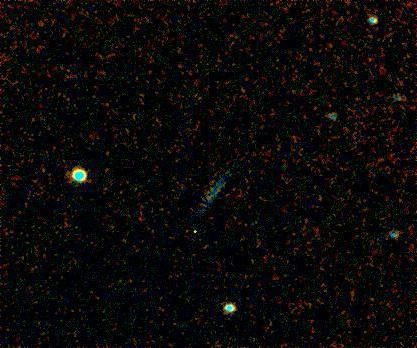star: (180, 210, 210, 240)
